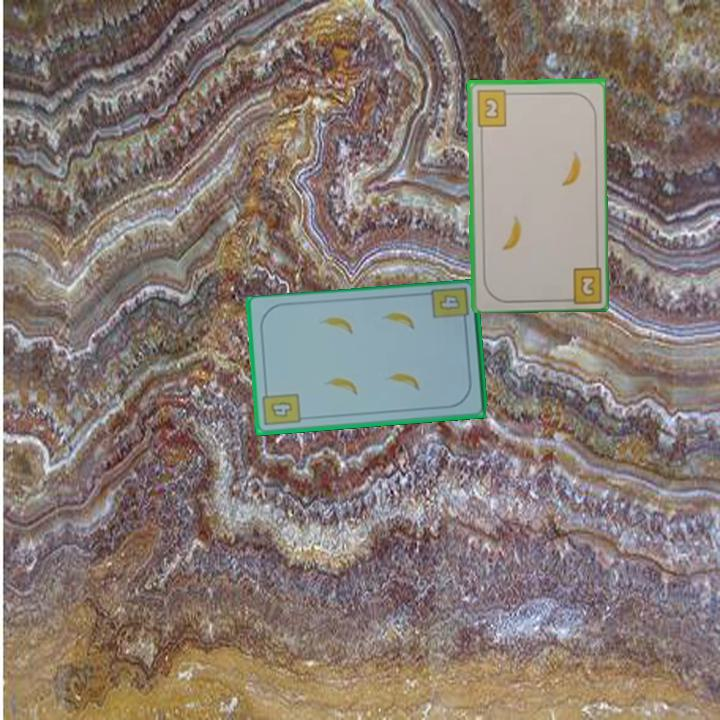2b: (559, 262, 603, 304), (473, 86, 515, 128)
4b: (428, 284, 472, 329), (259, 386, 303, 428)
